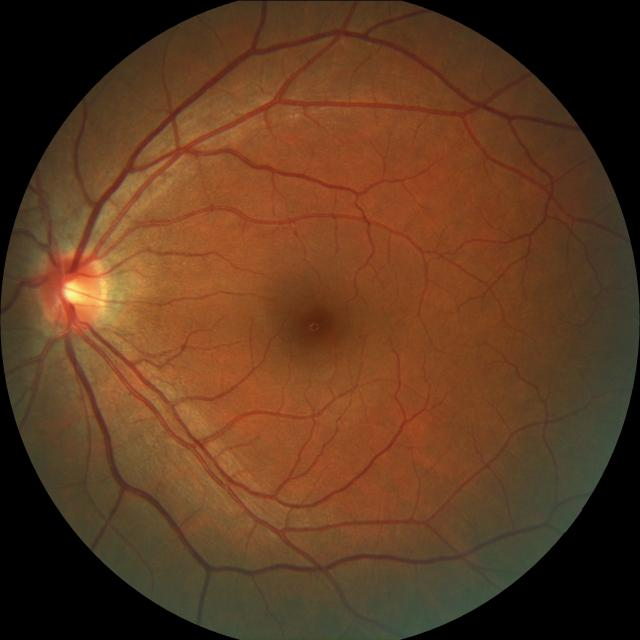OC: (57, 270, 89, 308)
OD: (36, 247, 106, 329)
